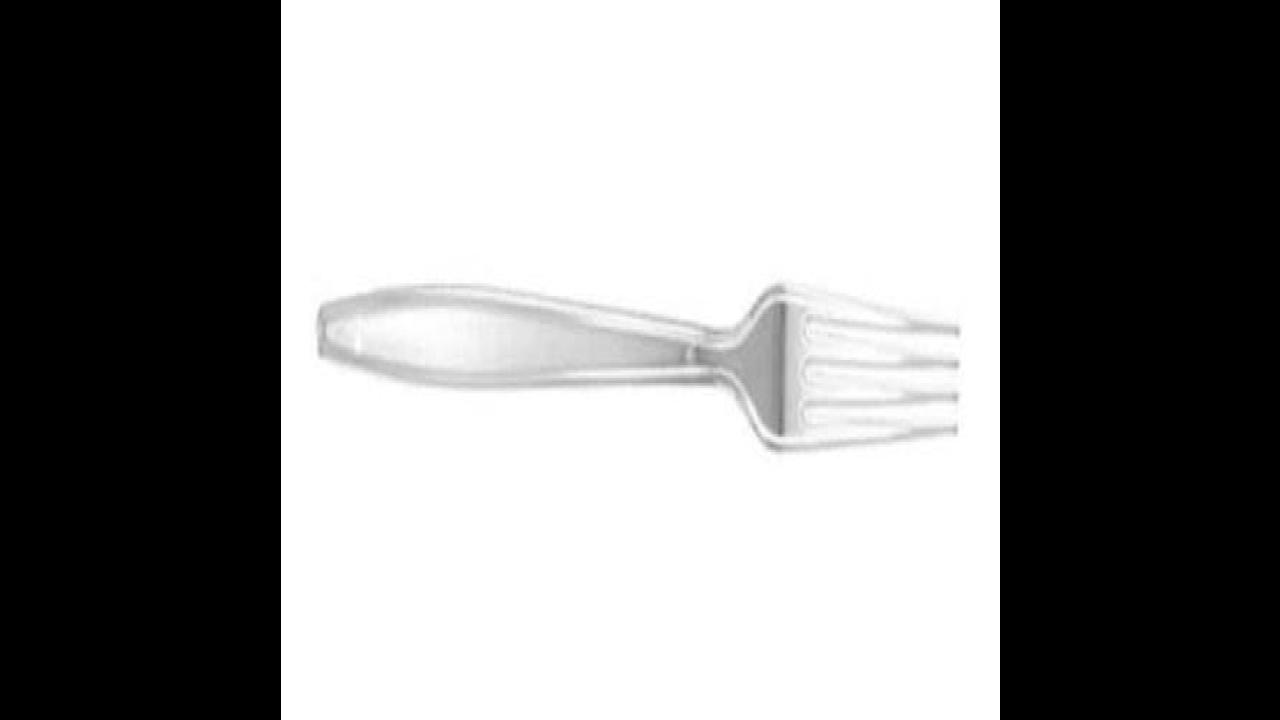fork: (316, 278, 964, 452)
